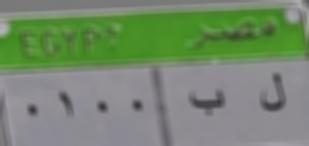0: (18, 97, 44, 127), (90, 90, 115, 119), (127, 88, 149, 120)
1: (53, 86, 77, 119)
baa: (185, 85, 231, 124)
laam: (253, 68, 290, 117)
